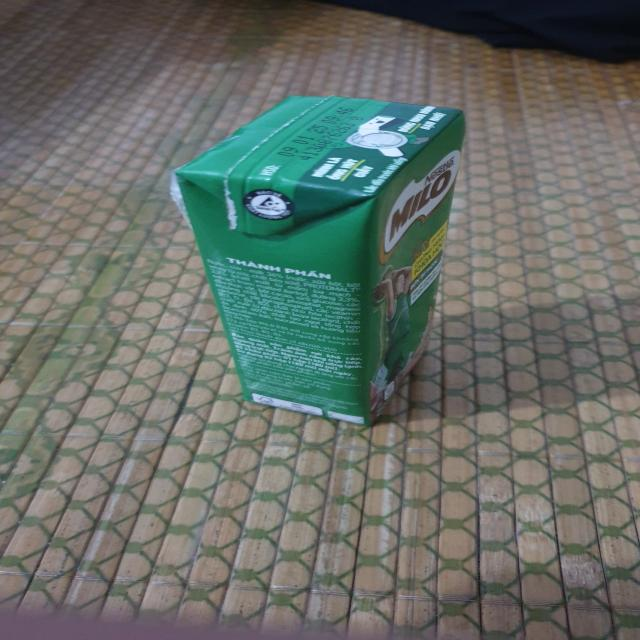Milo: (165, 94, 475, 434)
